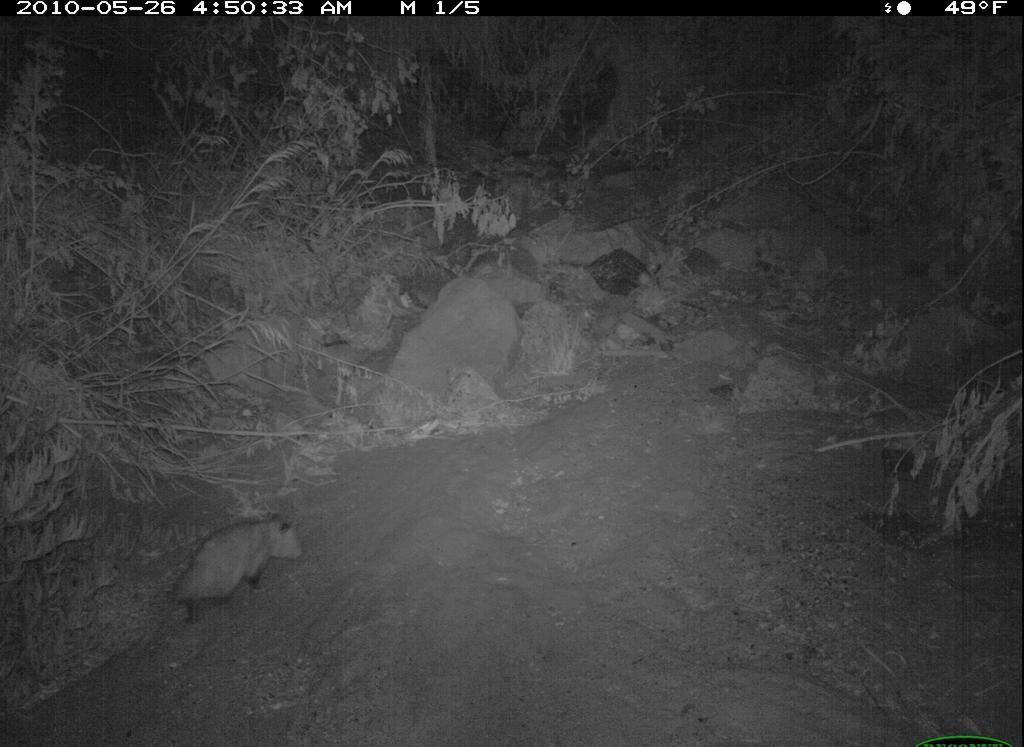opossum: (122, 506, 304, 675)
